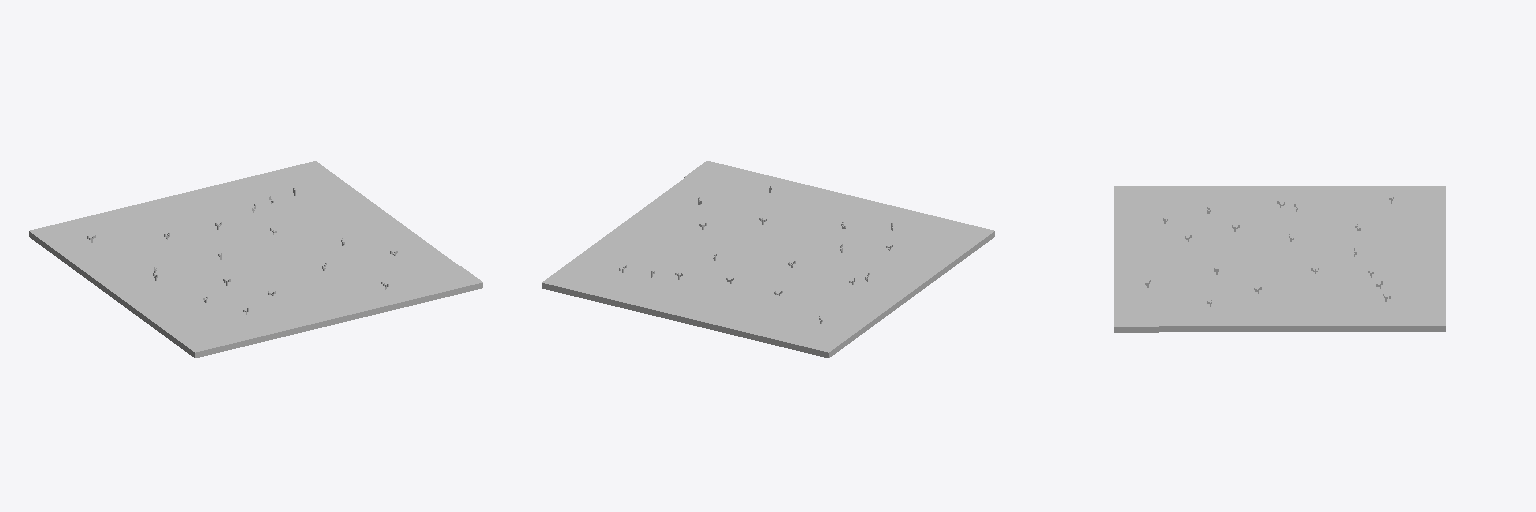
The model's file is terrain.obj.
The picture shows the model from 3 angles: view 1: azimuth 30°, elevation 25°; view 2: azimuth 150°, elevation 25°; view 3: azimuth 270°, elevation 25°; orthographic projection.
Visible parts, largest first — view 1: object 1; view 2: object 1; view 3: object 1.
Boxes of the visible parts, x1,y1,x2,y2 form: object 1: [29, 161, 482, 357]; object 1: [542, 161, 994, 357]; object 1: [1114, 186, 1445, 332].
Bounding box in the file's own units: 25.6 × 1.1 × 25.6.